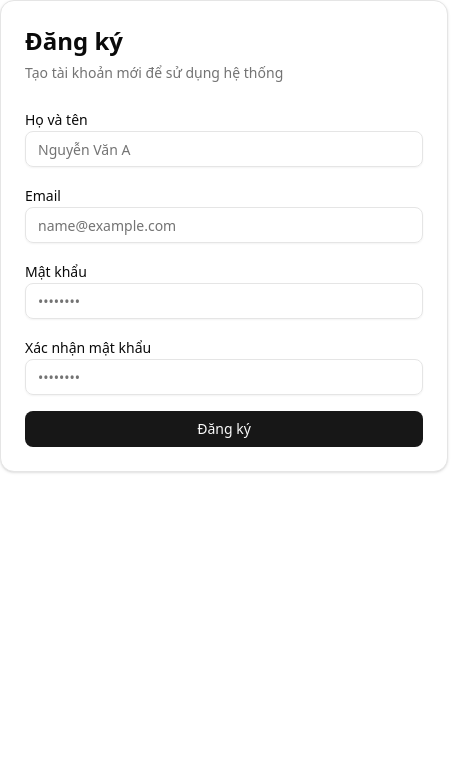
Test: RegisterForm success-state runtime contract › keeps the resend-verification flow working after success
In the field labelled "Họ và tên": x=224, y=149 [25, 131, 423, 167], type "Phạm Hùng Thiên"
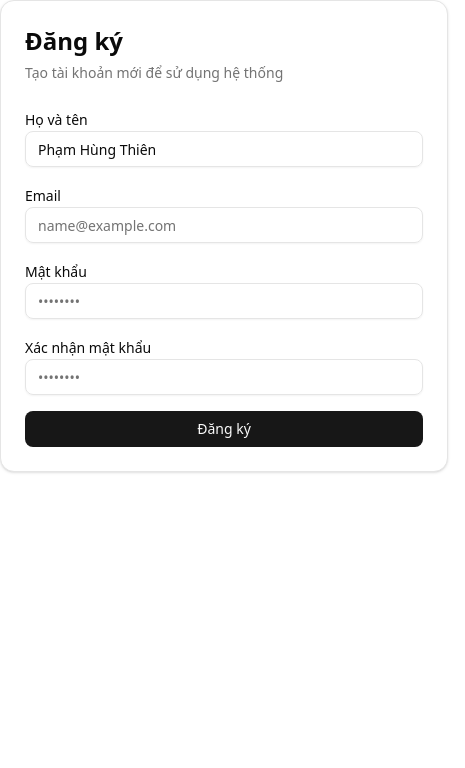
In the field labelled "Email": x=224, y=225 [25, 207, 423, 243], type "thienhungpham5@gmail.com"
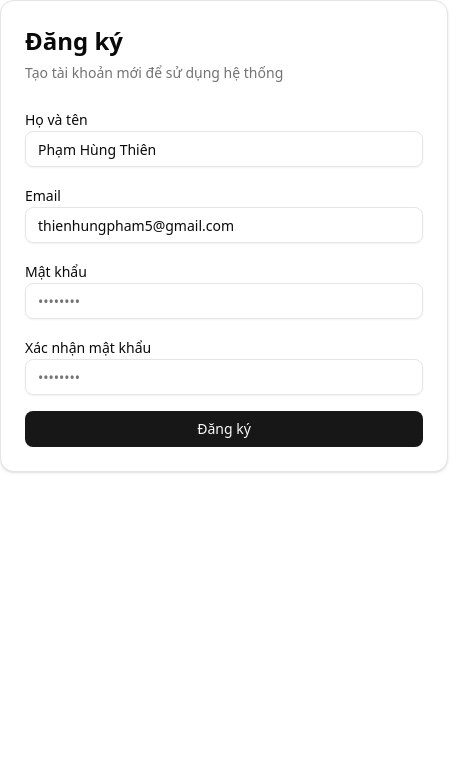
In the password field labelled "Mật khẩu": x=224, y=301 [25, 283, 423, 319], type "password123"
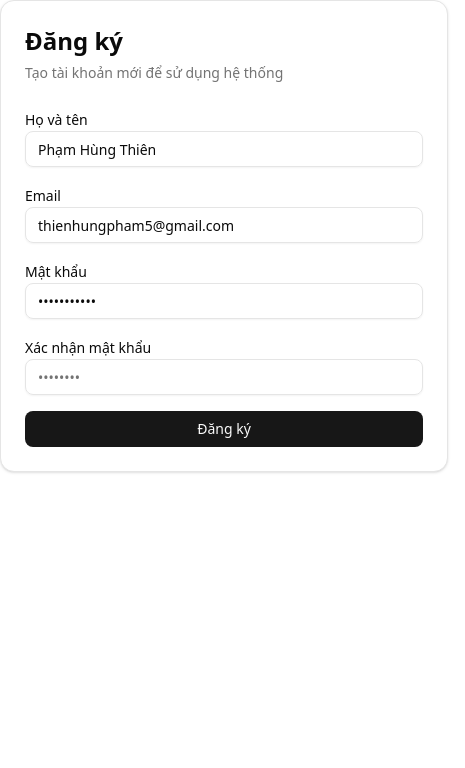
In the password field labelled "Xác nhận mật khẩu": x=224, y=377 [25, 359, 423, 395], type "password123"
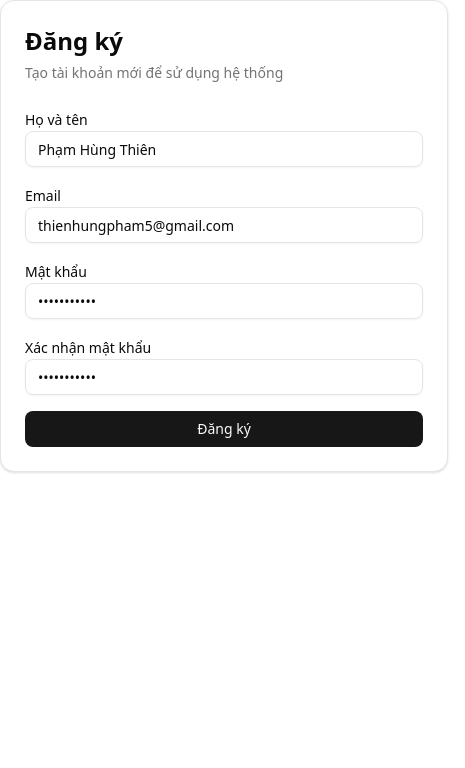
Click the button "Đăng ký": x=224, y=429 [25, 411, 423, 447]
Wait 60000 ms
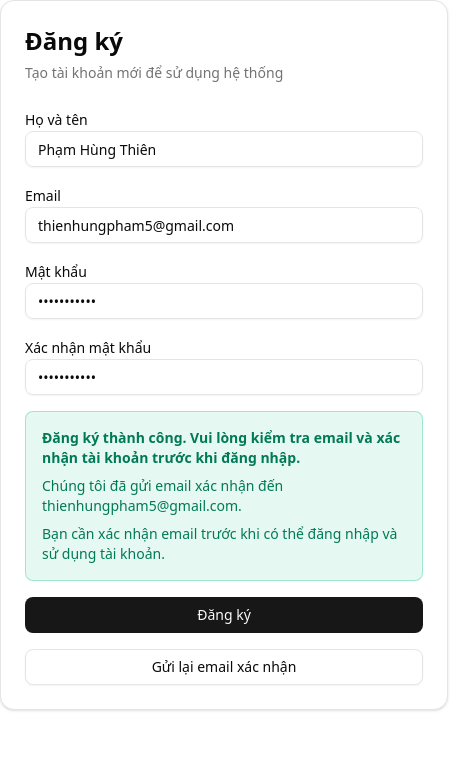
Now the button named "Gửi lại sau 60s" is shown
Click the button "Gửi lại email xác nhận": x=224, y=667 [25, 649, 423, 685]
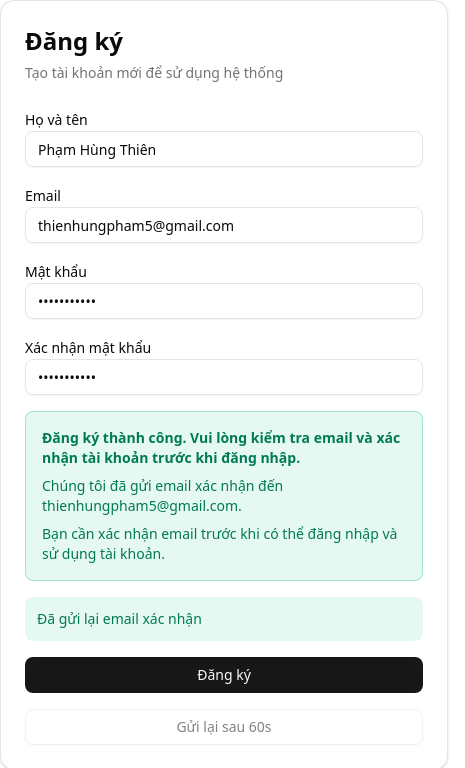
Now the text "Đã gửi lại email xác nhận" is shown, box [25, 597, 423, 641]
